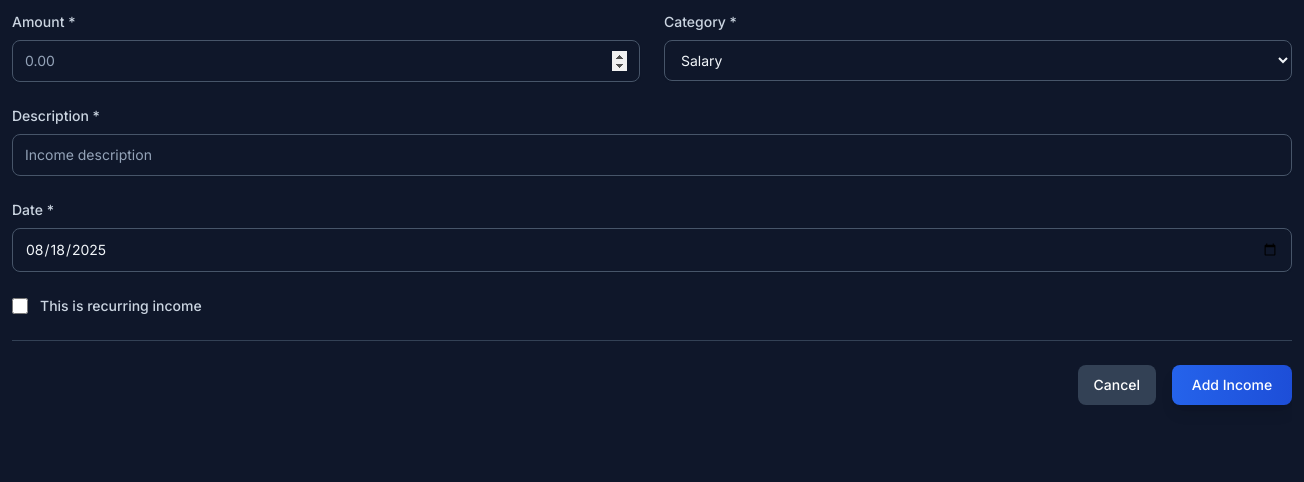
Scenario: IncomeForm › should clear validation errors when user starts typing
This screenshot has width=1304, height=482.
Trigger validation errors
Step 1. Click the button "Add Income" → (1232, 385), box [1172,365,1292,405]
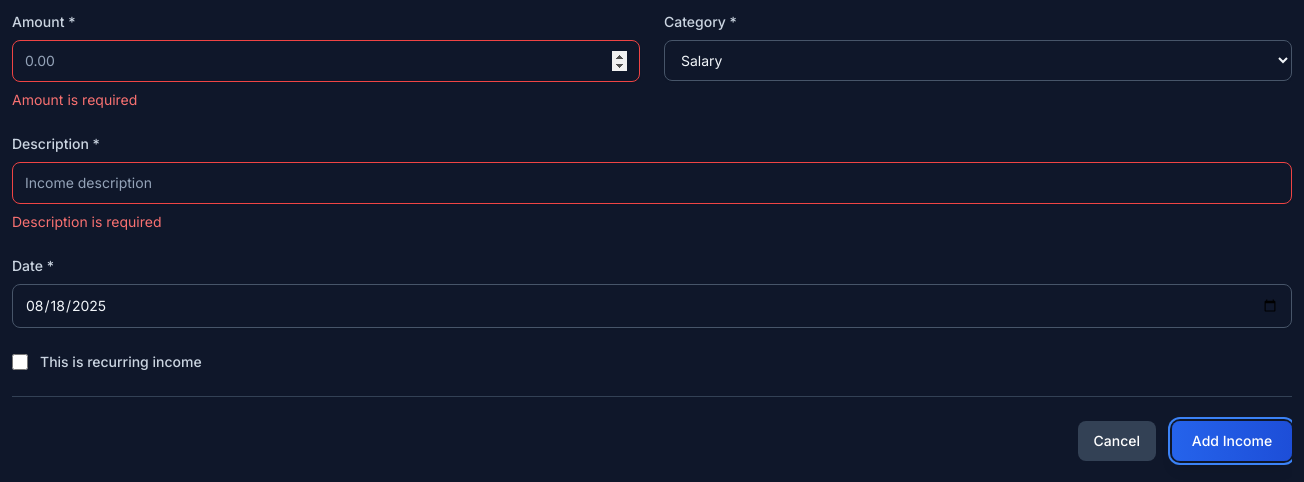
Expected: the text "Amount is required" is shown, [12,91,137,108]
Start typing in amount field
Step 2. Type "100" into the number field labelled "Amount *" → (326, 61), box [12,40,640,82]
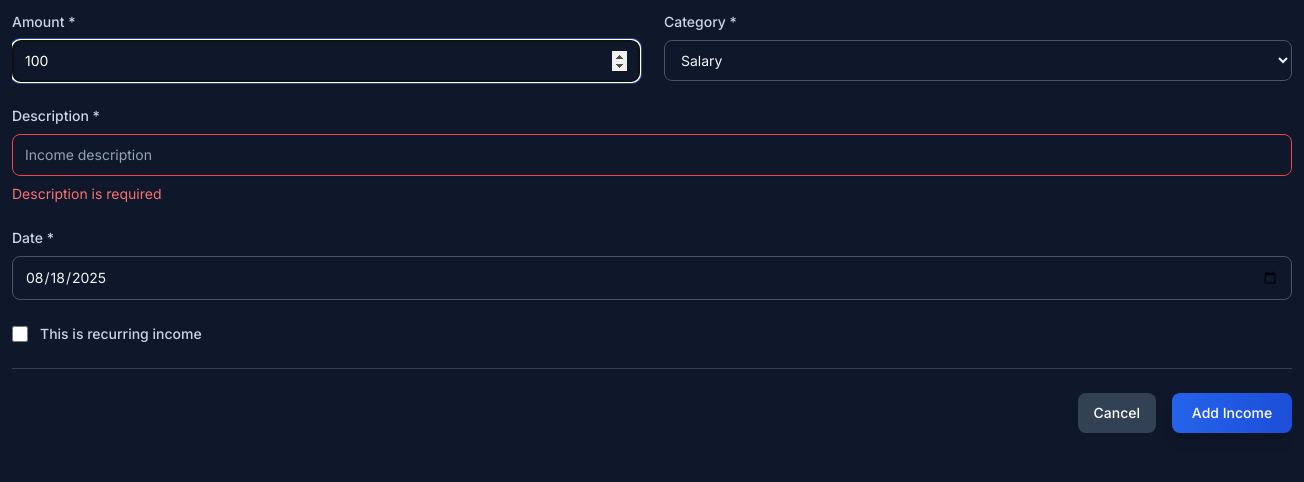
Expected: the text "Amount is required" is gone
